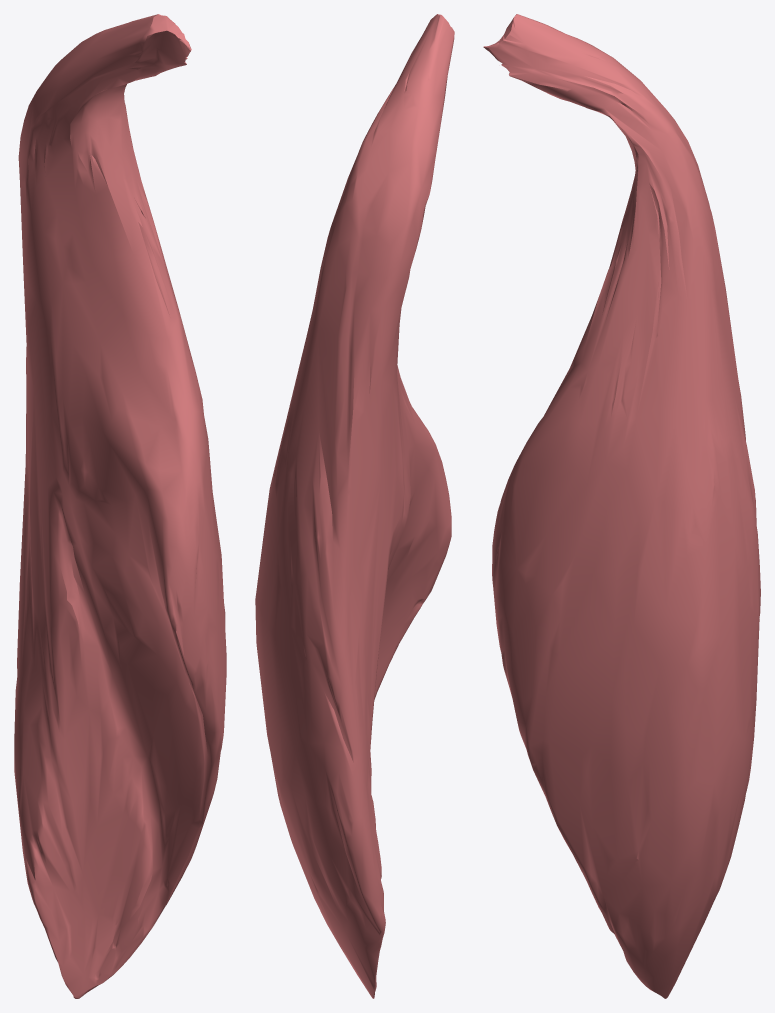
3 views of the same model, side by side, from view 1: azimuth 30°, elevation 25°; view 2: azimuth 150°, elevation 25°; view 3: azimuth 270°, elevation 25° (orthographic). The views are drawn at different scales.
Parts seen in each view (by area): view 1: FJ1397; view 2: FJ1397; view 3: FJ1397.
Boxes of the visible parts, x1,y1,x2,y2 form: FJ1397: (14, 14, 226, 998); FJ1397: (255, 14, 454, 998); FJ1397: (483, 14, 760, 998).
Bounding box in the file's own units: 0.0522 × 0.3076 × 0.0786.
